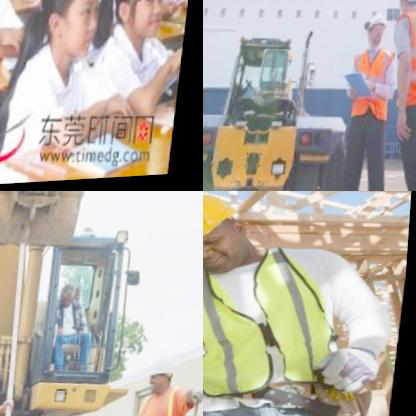head: (39, 0, 109, 63), (109, 0, 173, 44)
helmet: (203, 192, 260, 278), (365, 2, 396, 52), (149, 359, 179, 398), (394, 0, 416, 19)
